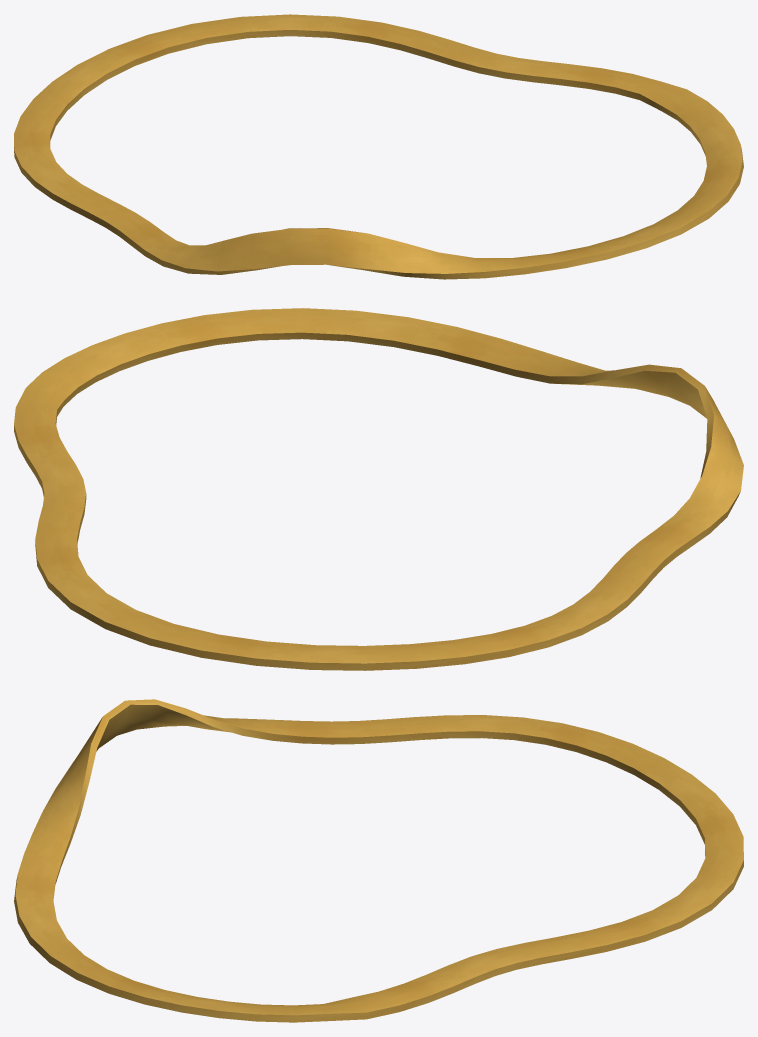
Rendered from rubberband.glb.
3 renders of one model, top to bottom at view 1: azimuth 30°, elevation 25°; view 2: azimuth 150°, elevation 25°; view 3: azimuth 270°, elevation 25°, orthographic. The views are drawn at different scales.
Parts seen in each view (by area): view 1: rubberband_mesh; view 2: rubberband_mesh; view 3: rubberband_mesh.
Part boxes in pixels (<box>): rubberband_mesh: <box>14,14,743,279</box>; rubberband_mesh: <box>14,308,743,670</box>; rubberband_mesh: <box>14,699,743,1022</box>.
Size of the model in its own units: 0.0644 by 0.0068 by 0.0653.
Materials: 1 (1 with a texture image).
